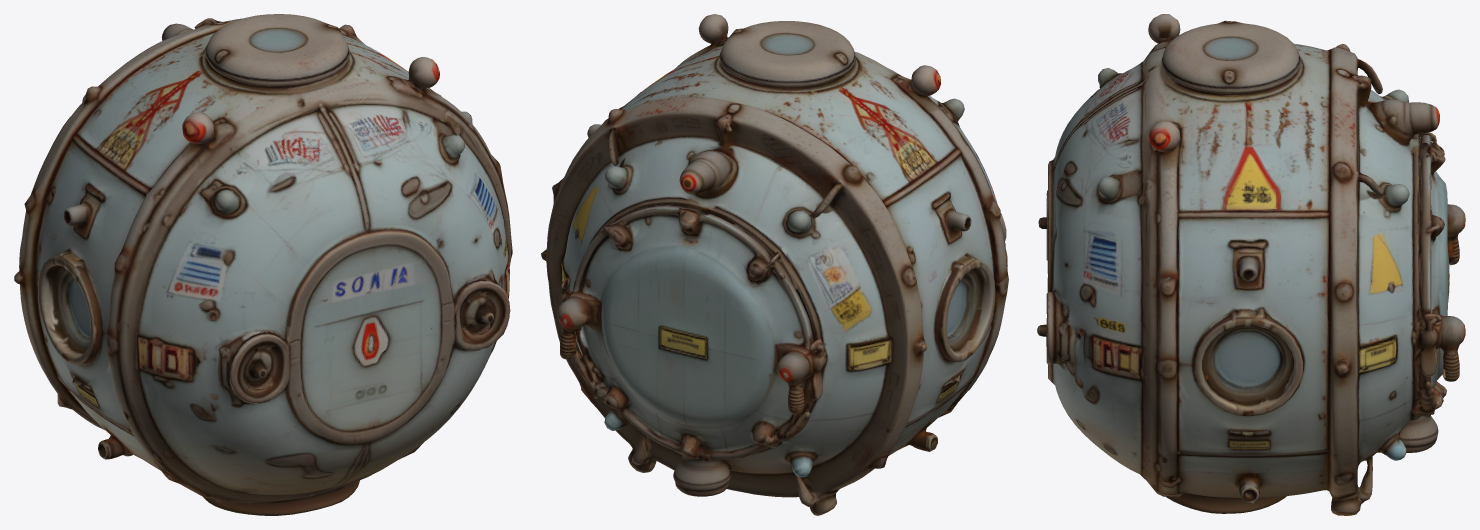
File: OpenableExtractPod.fbx
3 renders of one model, left to right at view 1: azimuth 30°, elevation 25°; view 2: azimuth 150°, elevation 25°; view 3: azimuth 270°, elevation 25°, orthographic. The views are drawn at different scales.
Parts seen in each view (by area): view 1: tripo_node_331e9cec; view 2: tripo_node_331e9cec, tripo_node_331e9cec.003, tripo_node_331e9cec.002, tripo_node_331e9cec.001; view 3: tripo_node_331e9cec, tripo_node_331e9cec.003, tripo_node_331e9cec.001, tripo_node_331e9cec.002.
Part boxes in pixels (x1,y1,x2,y2): tripo_node_331e9cec: [14, 14, 512, 515]; tripo_node_331e9cec: [541, 14, 1008, 515]; tripo_node_331e9cec.003: [560, 205, 825, 462]; tripo_node_331e9cec.002: [777, 348, 812, 414]; tripo_node_331e9cec.001: [557, 292, 590, 359]; tripo_node_331e9cec: [1037, 14, 1439, 515]; tripo_node_331e9cec.003: [1410, 135, 1449, 417]; tripo_node_331e9cec.001: [1435, 313, 1465, 381]; tripo_node_331e9cec.002: [1447, 204, 1465, 265].
Bounding box in the file's own units: 95.5 × 99.55 × 88.69.
